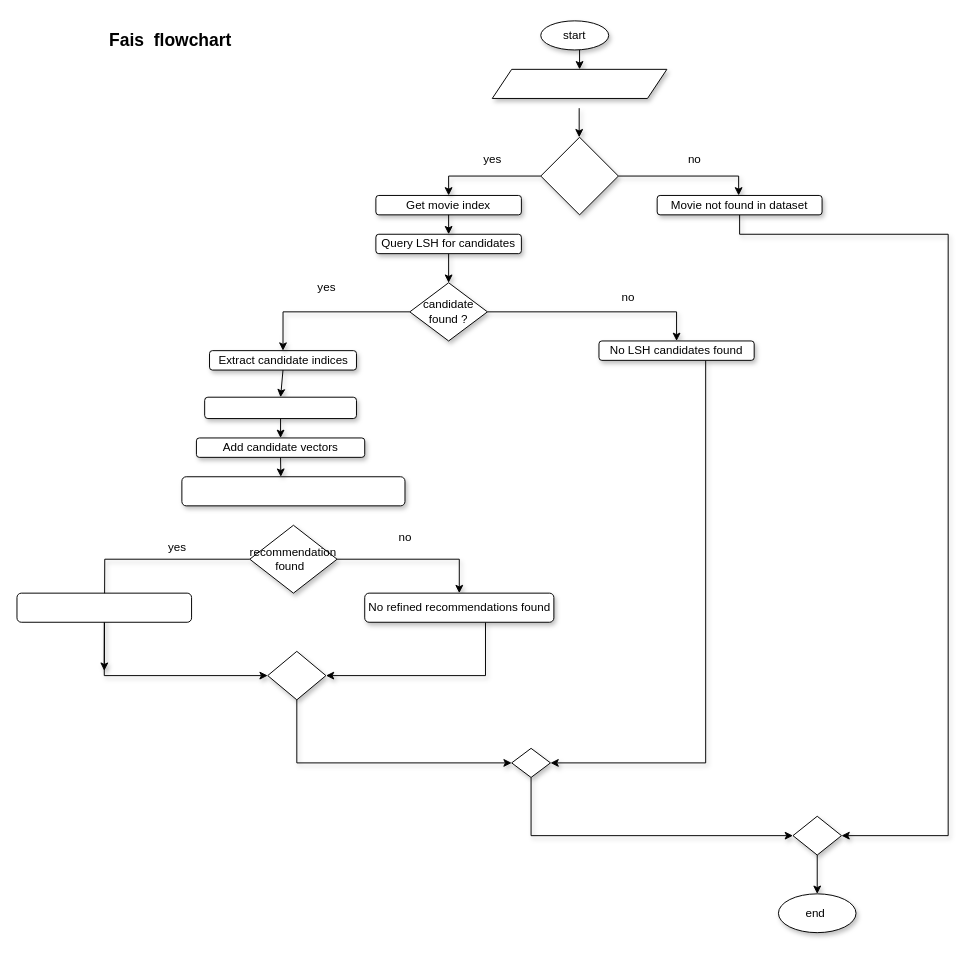
Some shapes in this 979 by 956 pixel diagram are drawn without their labels. Each missing label, with the centre of its shape:
"Display top-k recommendations" goes at pixel 104 607.
"Initialize FAISS Index" goes at pixel 281 408.
"input movie title" goes at pixel 580 85.
"movie exist in dataset?" goes at pixel 580 177.
"Query FAISS for refined recommendations" goes at pixel 294 492.
